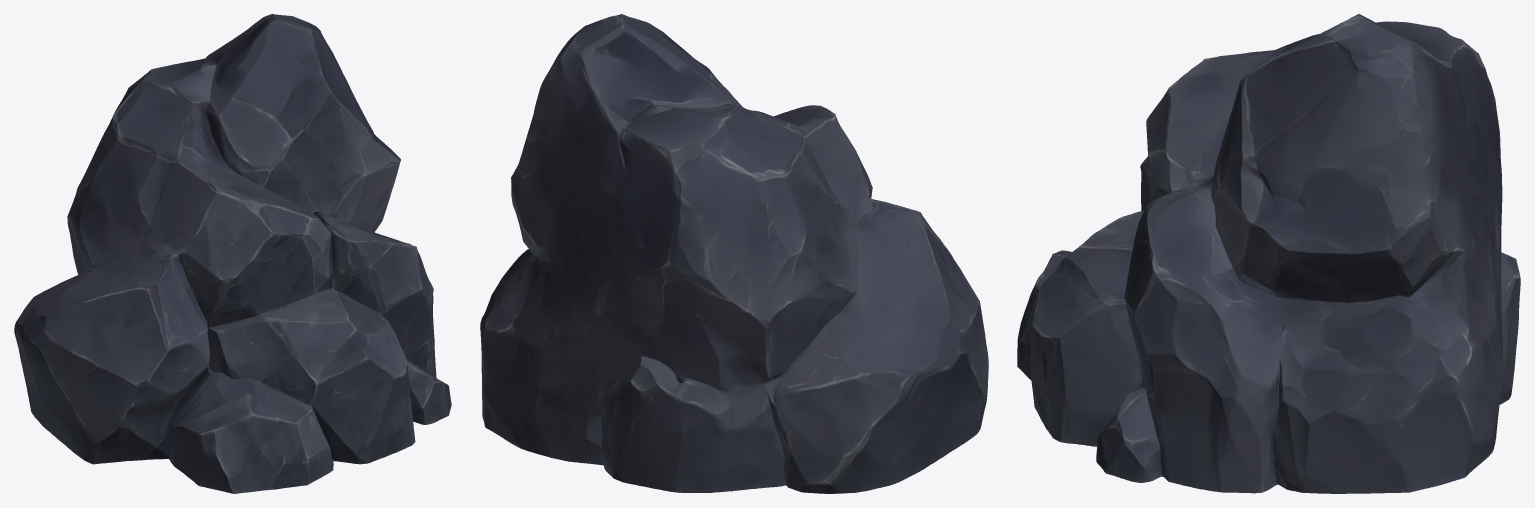
File: IronOreEmpty.fbx
3 renders of one model, left to right at view 1: azimuth 30°, elevation 25°; view 2: azimuth 150°, elevation 25°; view 3: azimuth 270°, elevation 25°, orthographic. The views are drawn at different scales.
Parts seen in each view (by area): view 1: model; view 2: model; view 3: model.
Boxes of the visible parts, left/top/right/bottom form: model: left=14, top=14, right=451, bottom=493; model: left=480, top=14, right=988, bottom=493; model: left=1017, top=14, right=1520, bottom=493.
Size of the model in its own units: 183 by 156 by 171.
Materials: 1 (1 with a texture image).
